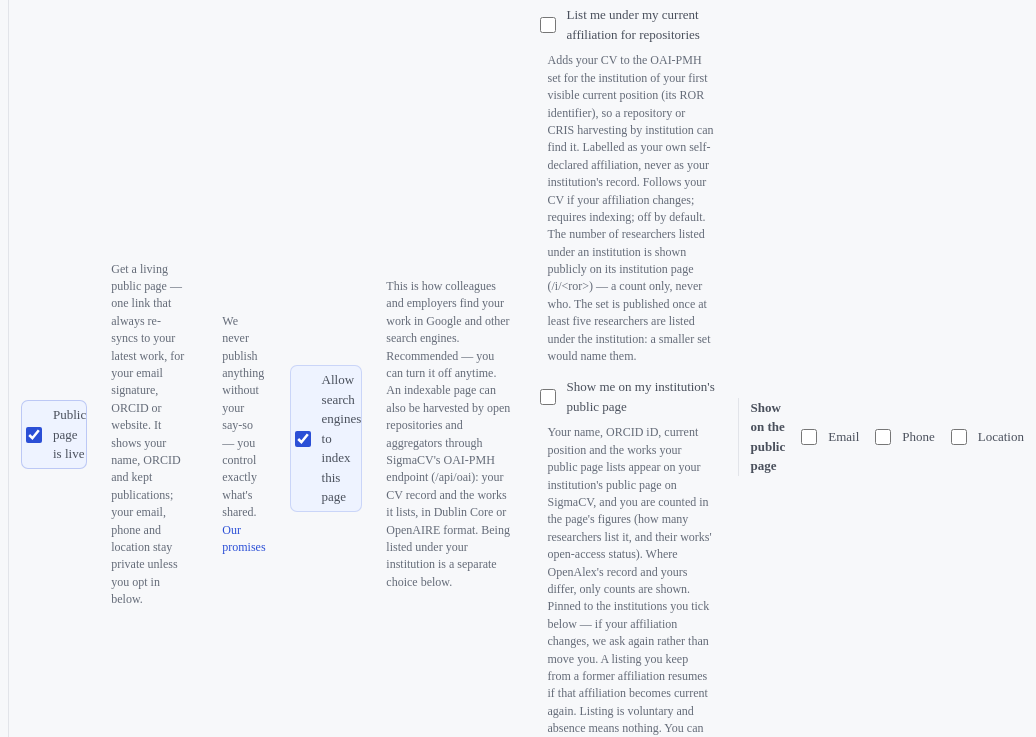
Test case: PublishControls — show me on my institution's page › with exactly one affiliation, one click consents to it — and the copy says which
Step 1. Click the checkbox labelled "Show me on my institution's public page" → (548, 397), box [540,389,556,405]
(page scrolled)
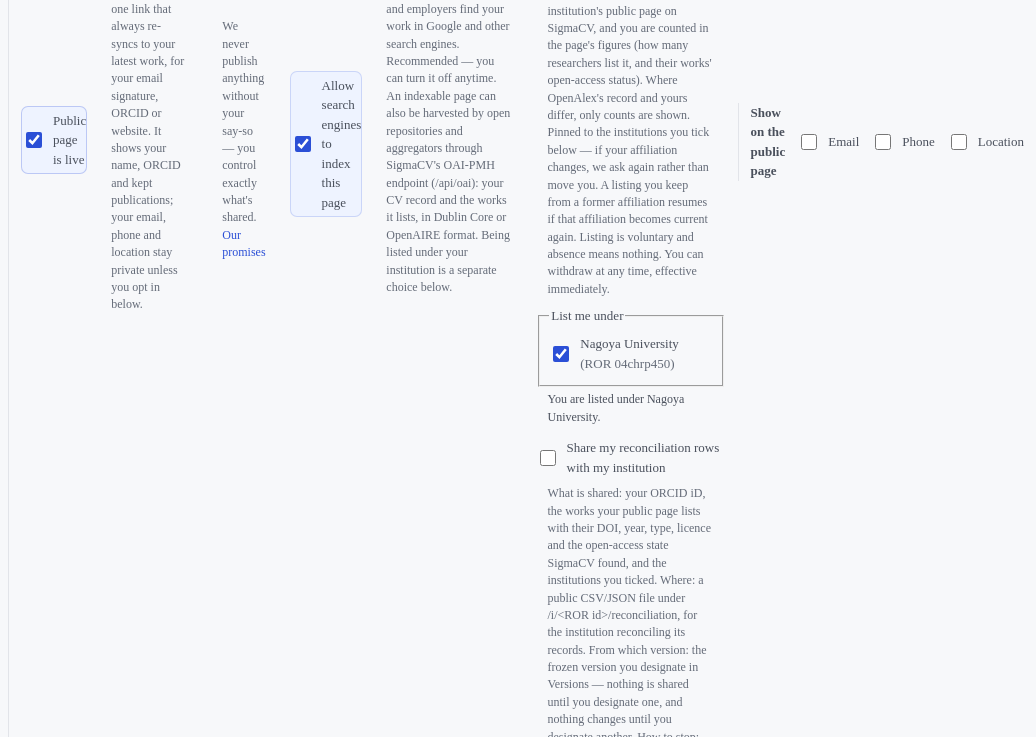
Now the checkbox labelled "Nagoya University (ROR 04chrp450)" is checked, box [553,346,569,362]
